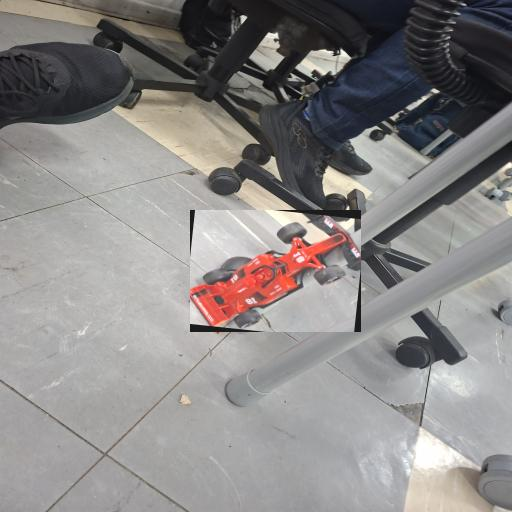carro: (190, 211, 360, 332)
